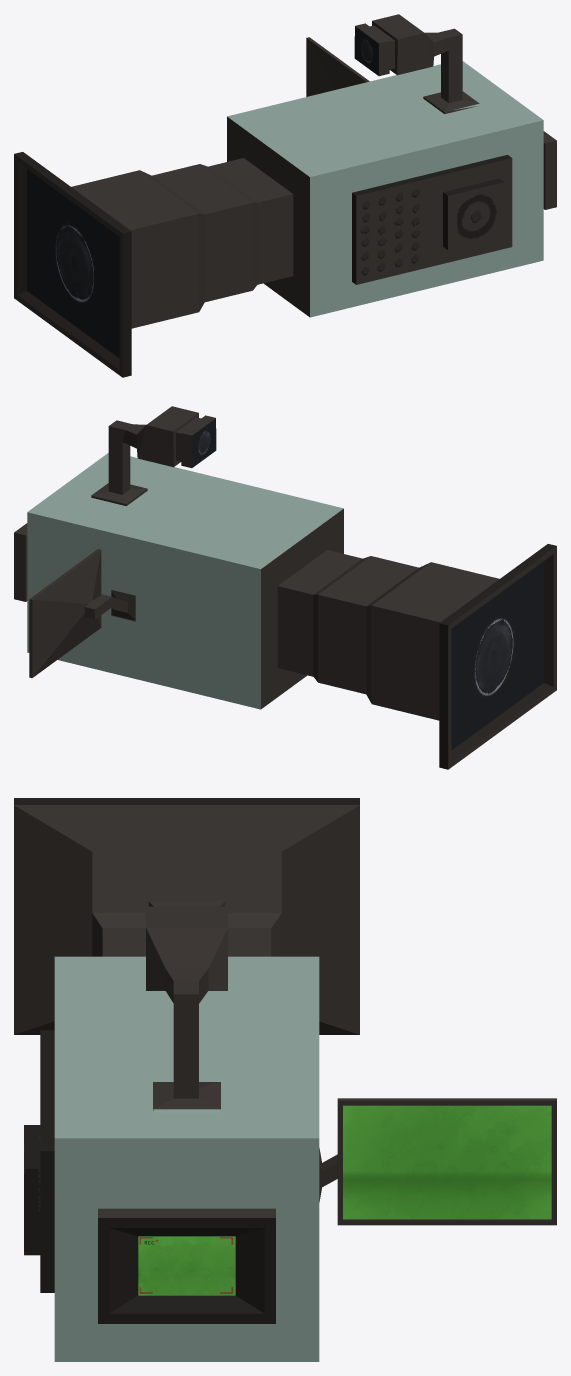
File: Camera_Only.fbx
3 views of the same model, one above another, from view 1: azimuth 30°, elevation 25°; view 2: azimuth 150°, elevation 25°; view 3: azimuth 270°, elevation 25° (orthographic). The views are drawn at different scales.
Parts seen in each view (by area): view 1: Camera; view 2: Camera; view 3: Camera.
Part boxes in pixels (box(x1,y1,x2,y2)): Camera: box(14, 14, 556, 377); Camera: box(14, 406, 556, 769); Camera: box(14, 798, 556, 1361).
Size of the model in its own units: 282 by 135 by 181.
